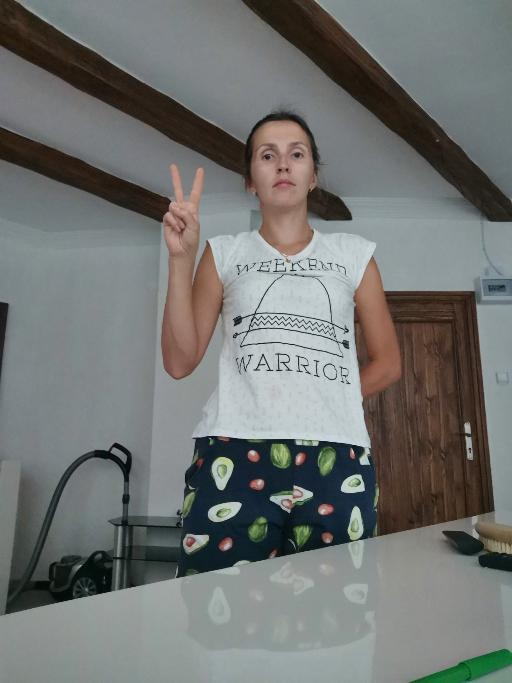peace: (159, 160, 207, 257)
